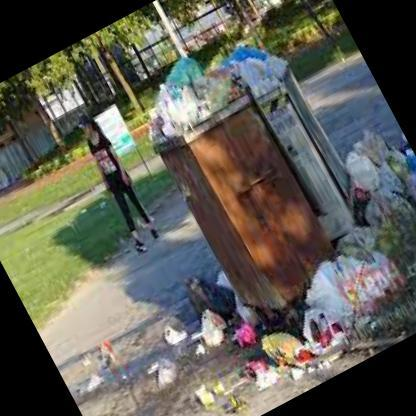Garbage: (126, 42, 252, 150), (297, 234, 401, 332), (218, 27, 292, 102), (260, 324, 322, 397), (292, 299, 350, 374), (359, 177, 415, 241), (228, 341, 282, 401), (335, 142, 388, 201), (195, 370, 260, 415), (184, 288, 232, 348), (179, 261, 226, 309), (169, 83, 216, 130), (200, 64, 245, 112), (236, 50, 278, 94), (350, 122, 390, 164), (134, 350, 172, 390), (156, 318, 189, 352), (90, 333, 118, 367), (156, 111, 181, 140), (236, 324, 260, 348), (194, 336, 209, 358)
